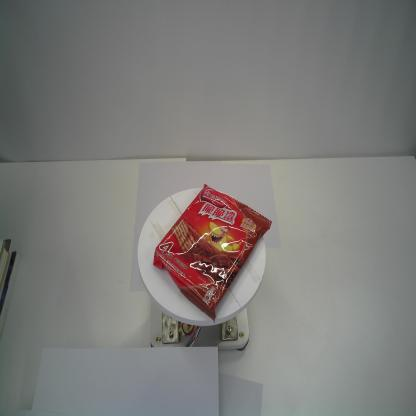Dessert: (153, 183, 272, 325)
